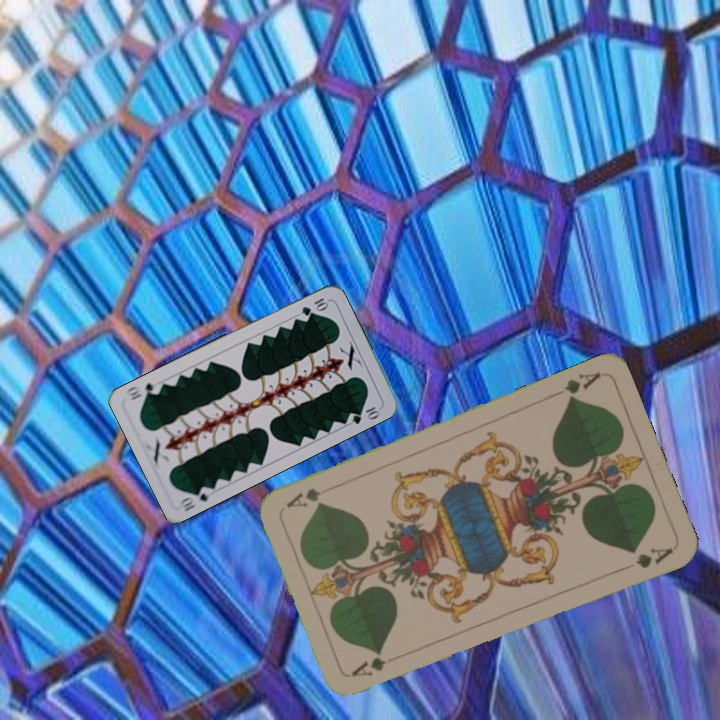G10: (177, 482, 216, 514), (297, 294, 331, 319)
GA: (560, 368, 604, 404), (347, 653, 389, 679)
